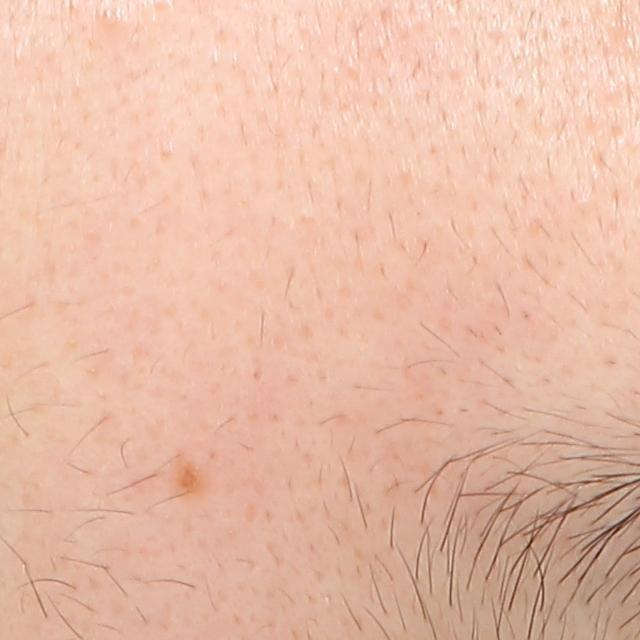comedo: (92, 1, 138, 38)
